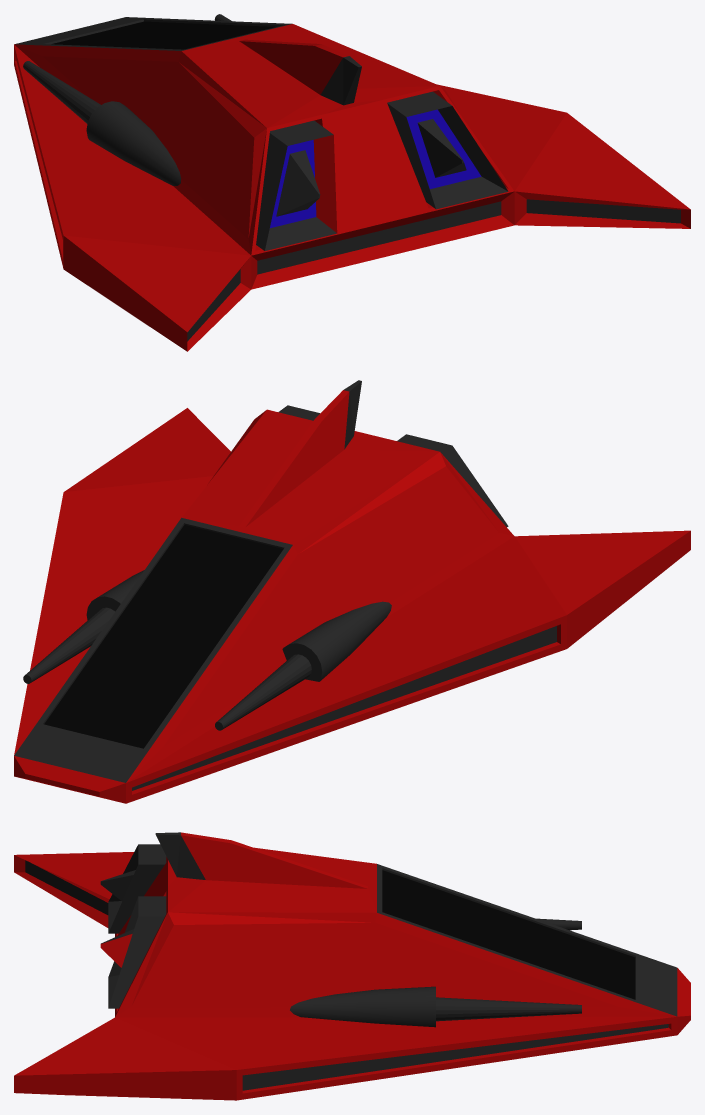
Rendered from ship_model.FBX.
3 views of the same model, one above another, from view 1: azimuth 30°, elevation 25°; view 2: azimuth 150°, elevation 25°; view 3: azimuth 270°, elevation 25° (orthographic). The views are drawn at different scales.
Parts seen in each view (by area): view 1: Box001, Cylinder001; view 2: Box001, Cylinder001, Cylinder002; view 3: Box001, Cylinder002.
Boxes of the visible parts, bbox=[...] form: Box001: bbox=[14, 17, 690, 351]; Cylinder001: bbox=[23, 61, 181, 185]; Box001: bbox=[14, 380, 690, 803]; Cylinder001: bbox=[215, 601, 391, 730]; Cylinder002: bbox=[23, 570, 144, 683]; Box001: bbox=[14, 832, 690, 1100]; Cylinder002: bbox=[290, 986, 581, 1027].
Size of the model in its own units: 51.74 by 21.21 by 67.06.
